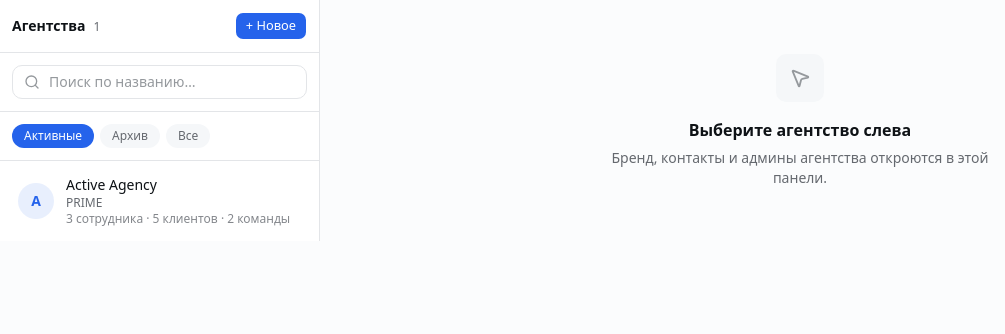
Scenario: AgencyListPage › shows EmptyFilter when search filters everything out
The image size is (1005, 334).
Check: the text "Active Agency" is shown, box [66, 175, 157, 194]
In the search field with placeholder "Поиск по названию…": (160, 82) [12, 65, 307, 99], type "zzz"
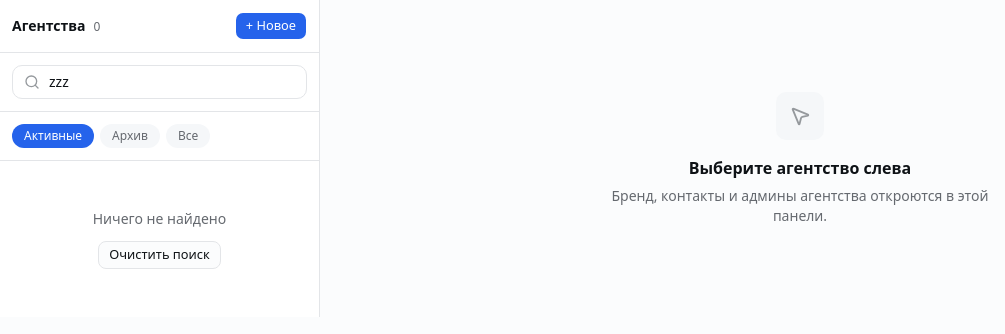
Check: the text "Ничего не найдено" is shown, box [93, 209, 226, 229]
